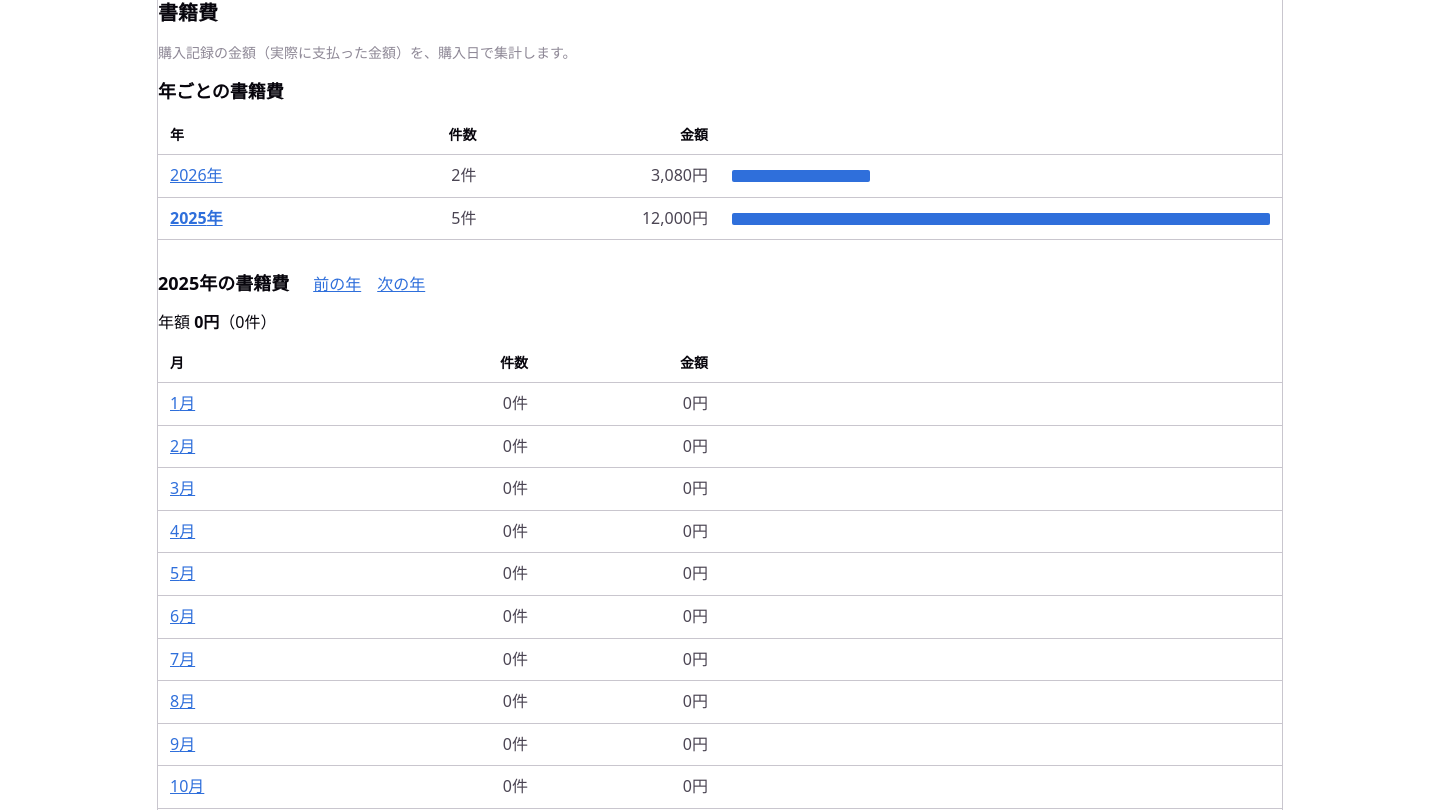
Test: ExpensesPage › 年の書籍費 › 前の年・次の年に移れる
Expected: the heading "2025年の書籍費" is shown, [158, 272, 289, 296]
What coordinates should you click on to do the following:
click the link "次の年"
I would click on:
 (401, 285)
Its box is [377, 272, 425, 298].
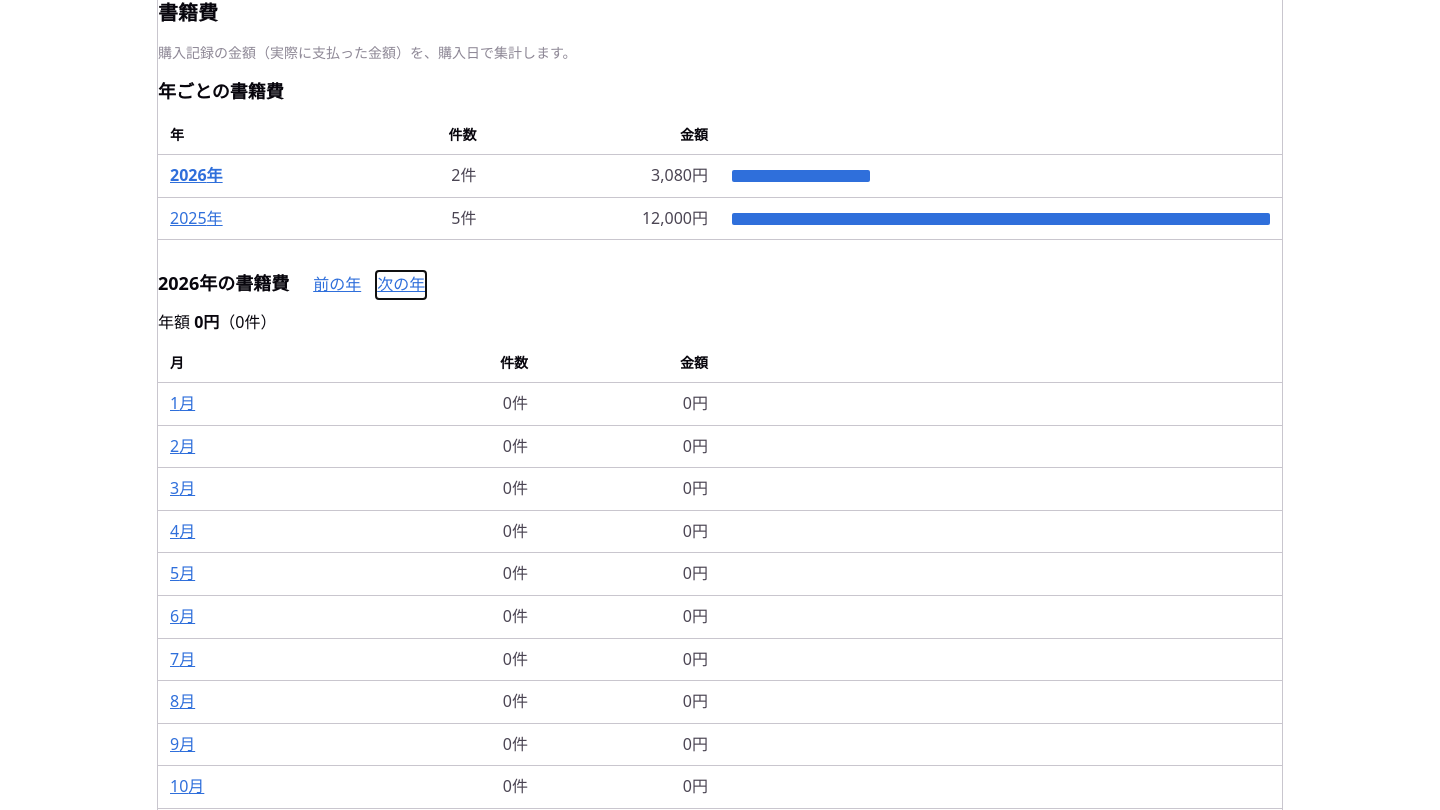
Result: the heading "2026年の書籍費" is shown at [158, 272, 289, 296]
What coordinates should you click on to do the following:
click the link "前の年"
I would click on:
 (337, 285)
Its box is [313, 272, 361, 298].
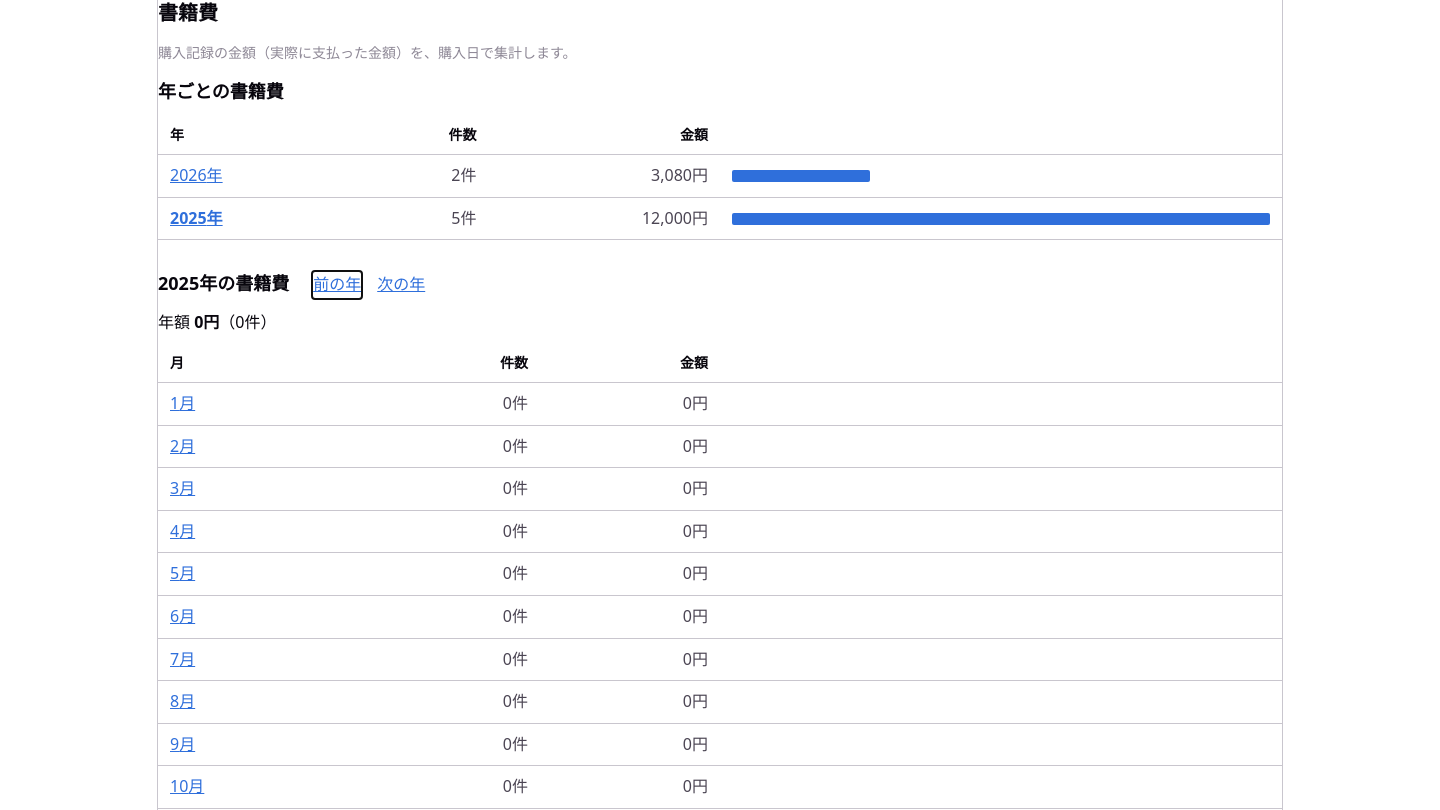
What coordinates should you click on to do the following:
click the link "前の年"
I would click on:
 (337, 285)
Its box is [313, 272, 361, 298].
(page scrolled)
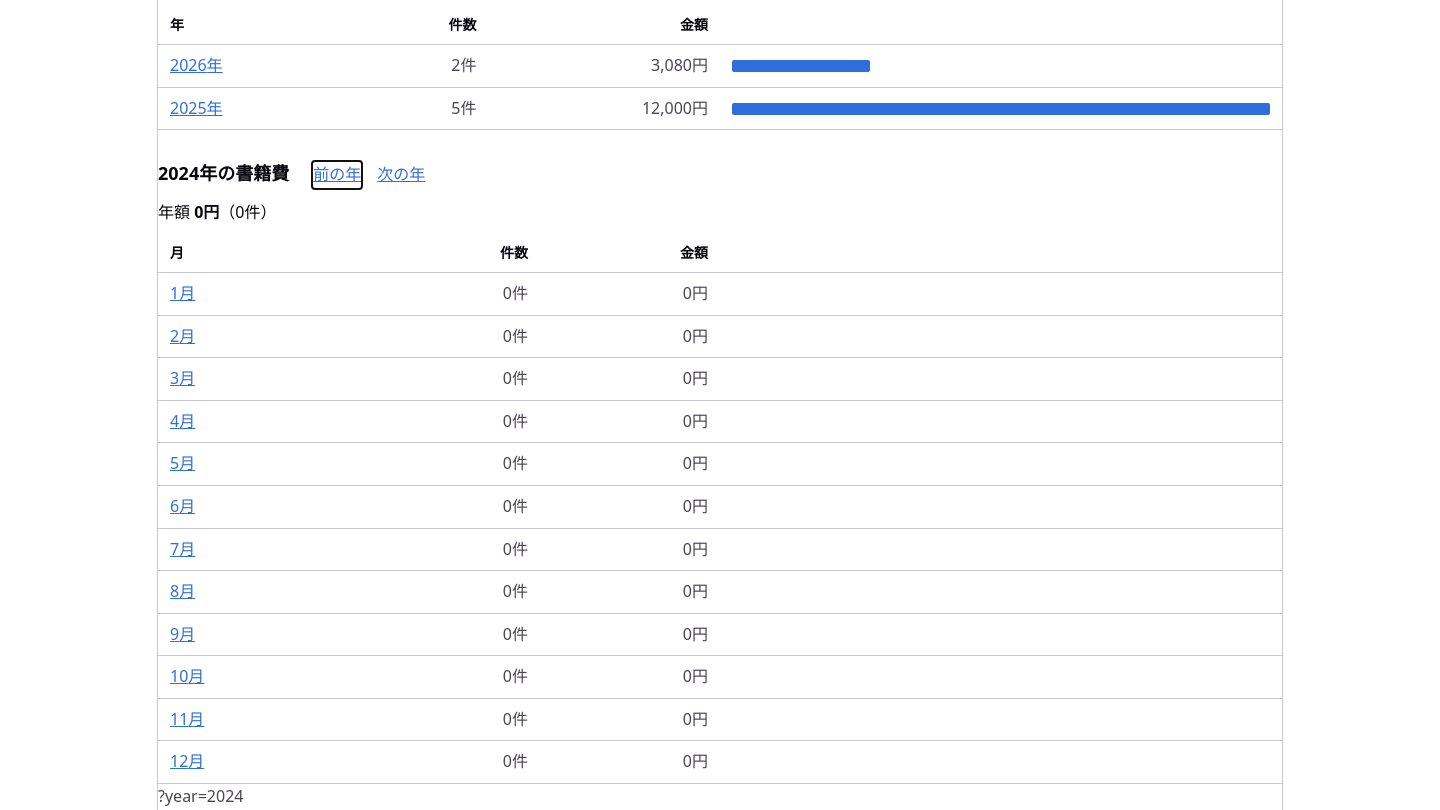
Result: the heading "2024年の書籍費" is shown at [158, 162, 289, 186]
Result: the text with test id "location-search" reads "?year=2024" at [158, 785, 244, 807]
